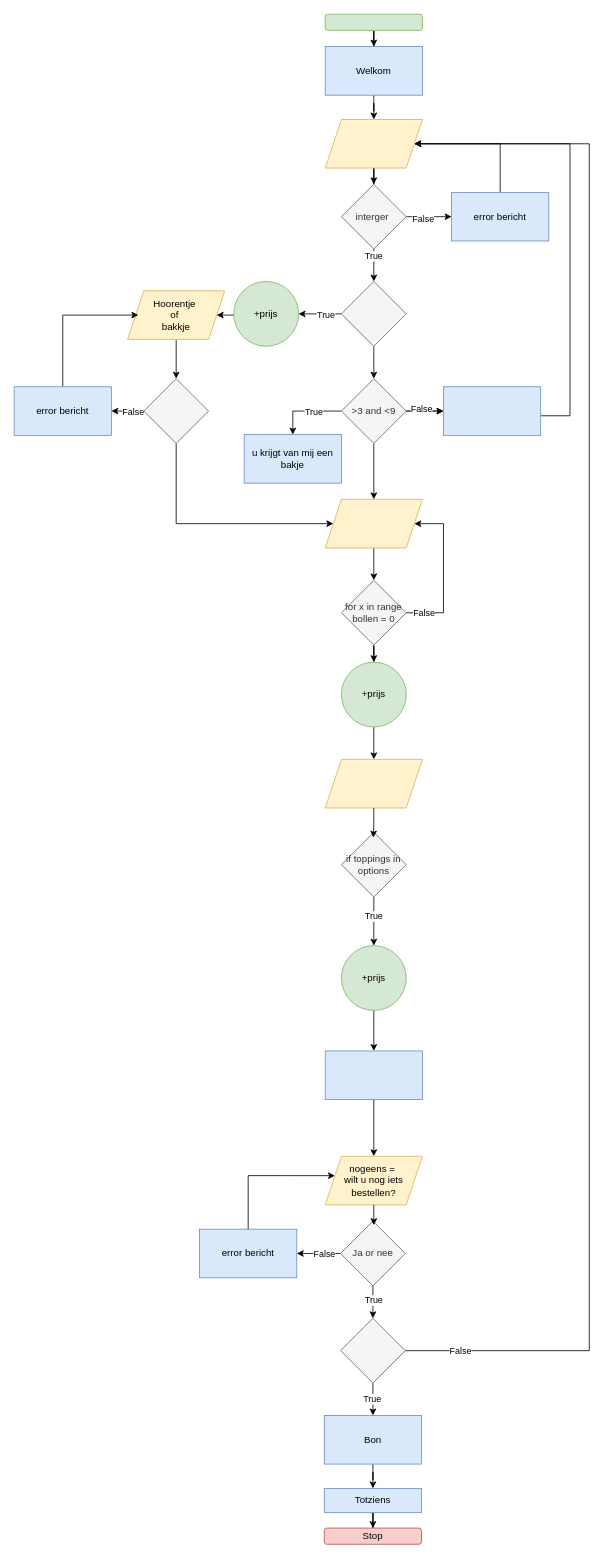
Some shapes in this 610 by 1558 pixel diagram are drawn without their labels. Each missing label, with the centre of its shape:
>0 and <4: the point at 373,313
bollen = Bolletjes?: the point at 373,143
hoorentje or bakje: the point at 176,410
Kijk eens uw hoorentje/bakkje met {bollen} bolletjes en {toppings}: the point at 373,1075
nee: the point at 372,1350
Smaak bolletje: the point at 373,523
Start: the point at 373,21
toppings: the point at 373,783
We verkopen niet zulke grootte aantallen: the point at 492,410
